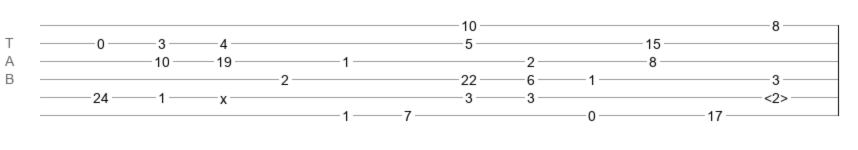0: (97, 36, 105, 46), (588, 108, 596, 118)
1: (158, 90, 166, 100), (342, 108, 350, 118), (342, 54, 350, 64), (588, 72, 596, 82)
10: (154, 54, 170, 64), (461, 18, 477, 28)
15: (645, 36, 661, 46)
17: (707, 108, 723, 118)
19: (216, 54, 232, 64)
2: (281, 72, 289, 82), (527, 54, 535, 64)
22: (461, 72, 477, 82)
24: (93, 90, 109, 100)
3: (158, 36, 166, 46), (465, 90, 473, 100), (527, 90, 535, 100), (772, 72, 780, 82)
4: (220, 36, 228, 46)
5: (465, 36, 473, 46)
6: (527, 72, 535, 82)
7: (404, 108, 412, 118)
8: (649, 54, 657, 64), (772, 18, 780, 28)
harmonic: (764, 90, 788, 100)
x: (220, 91, 227, 99)
